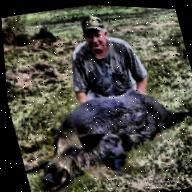boar: (17, 63, 192, 192)
